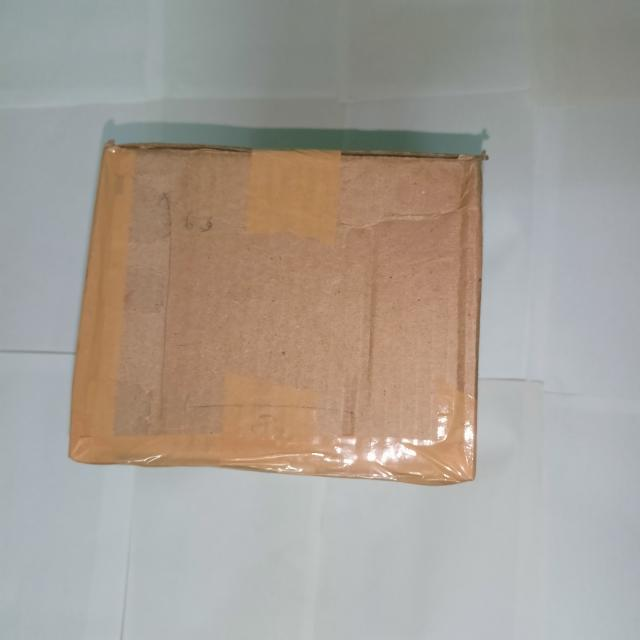box: (67, 143, 485, 484)
